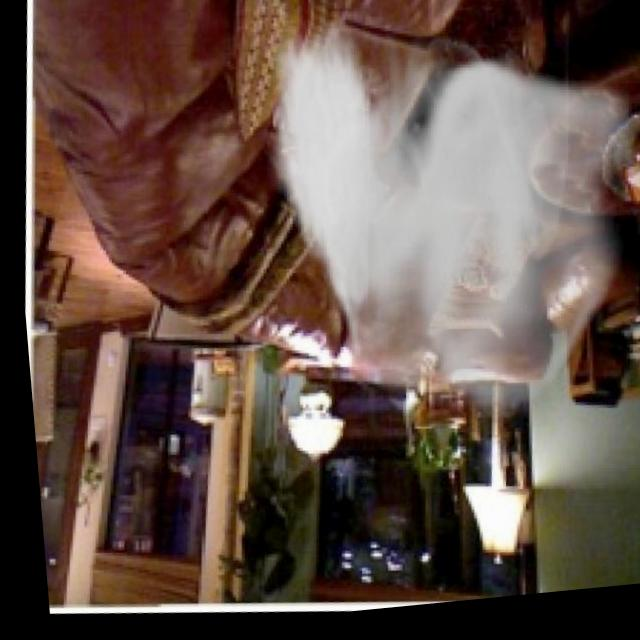no_helmet: (257, 17, 630, 436)
